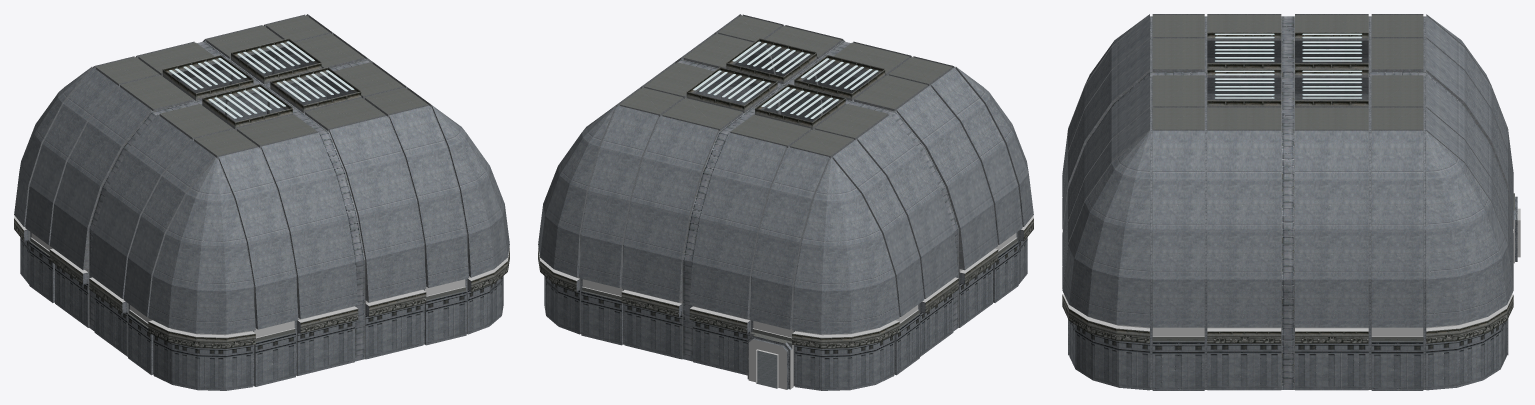
File: poi_all_impl_bunker_warren_s01_r87_bigroom87_mesh_r87.fbx
The picture shows the model from 3 angles, left to right: view 1: azimuth 30°, elevation 25°; view 2: azimuth 150°, elevation 25°; view 3: azimuth 270°, elevation 25°; orthographic projection. The views are drawn at different scales.
Parts seen in each view (by area): view 1: mesh_node; view 2: mesh_node; view 3: mesh_node.
Boxes of the visible parts, box(x1,y1,x2,y2) form: mesh_node: box(14, 14, 509, 390); mesh_node: box(538, 14, 1033, 390); mesh_node: box(1062, 14, 1520, 390).
Bounding box in the file's own units: 33 × 18.7 × 33.5.
